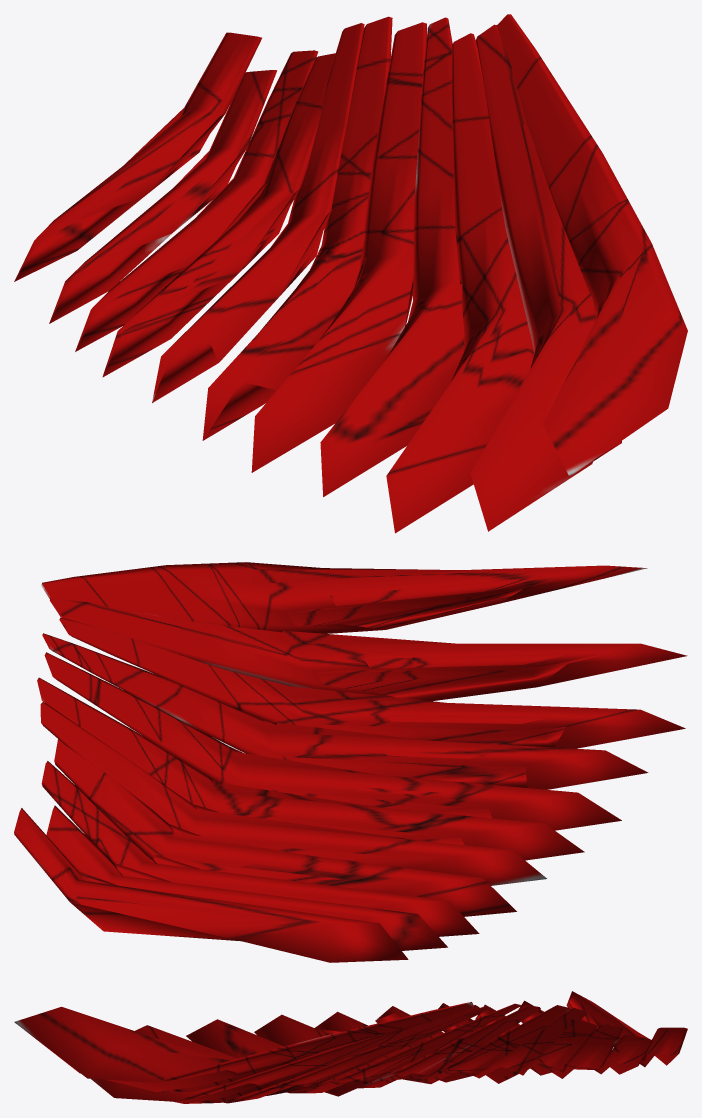
The model's file is relojAlaDerPajaro.obj.
The picture shows the model from 3 angles, top to bottom: view 1: azimuth 30°, elevation 25°; view 2: azimuth 150°, elevation 25°; view 3: azimuth 270°, elevation 25°; orthographic projection. The views are drawn at different scales.
Parts seen in each view (by area): view 1: polySurface83; view 2: polySurface83; view 3: polySurface83.
Part boxes in pixels (<box>): polySurface83: <box>14,14,687,533</box>; polySurface83: <box>14,562,687,962</box>; polySurface83: <box>14,991,687,1103</box>.
Bounding box in the file's own units: 46.92 × 26.18 × 89.56.
Materials: 1 (1 with a texture image).
